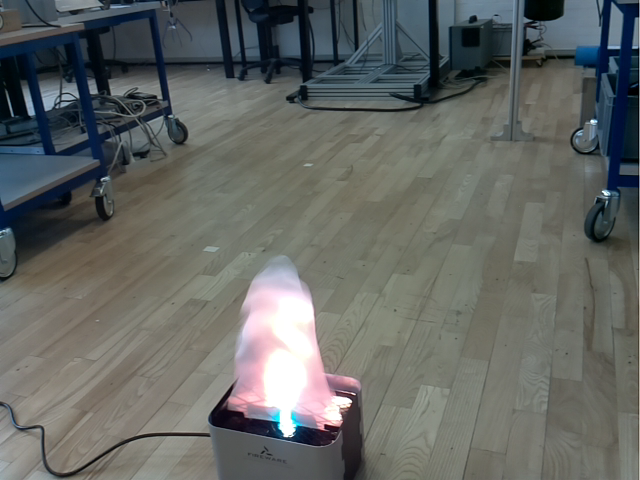fire: (226, 256, 342, 430)
